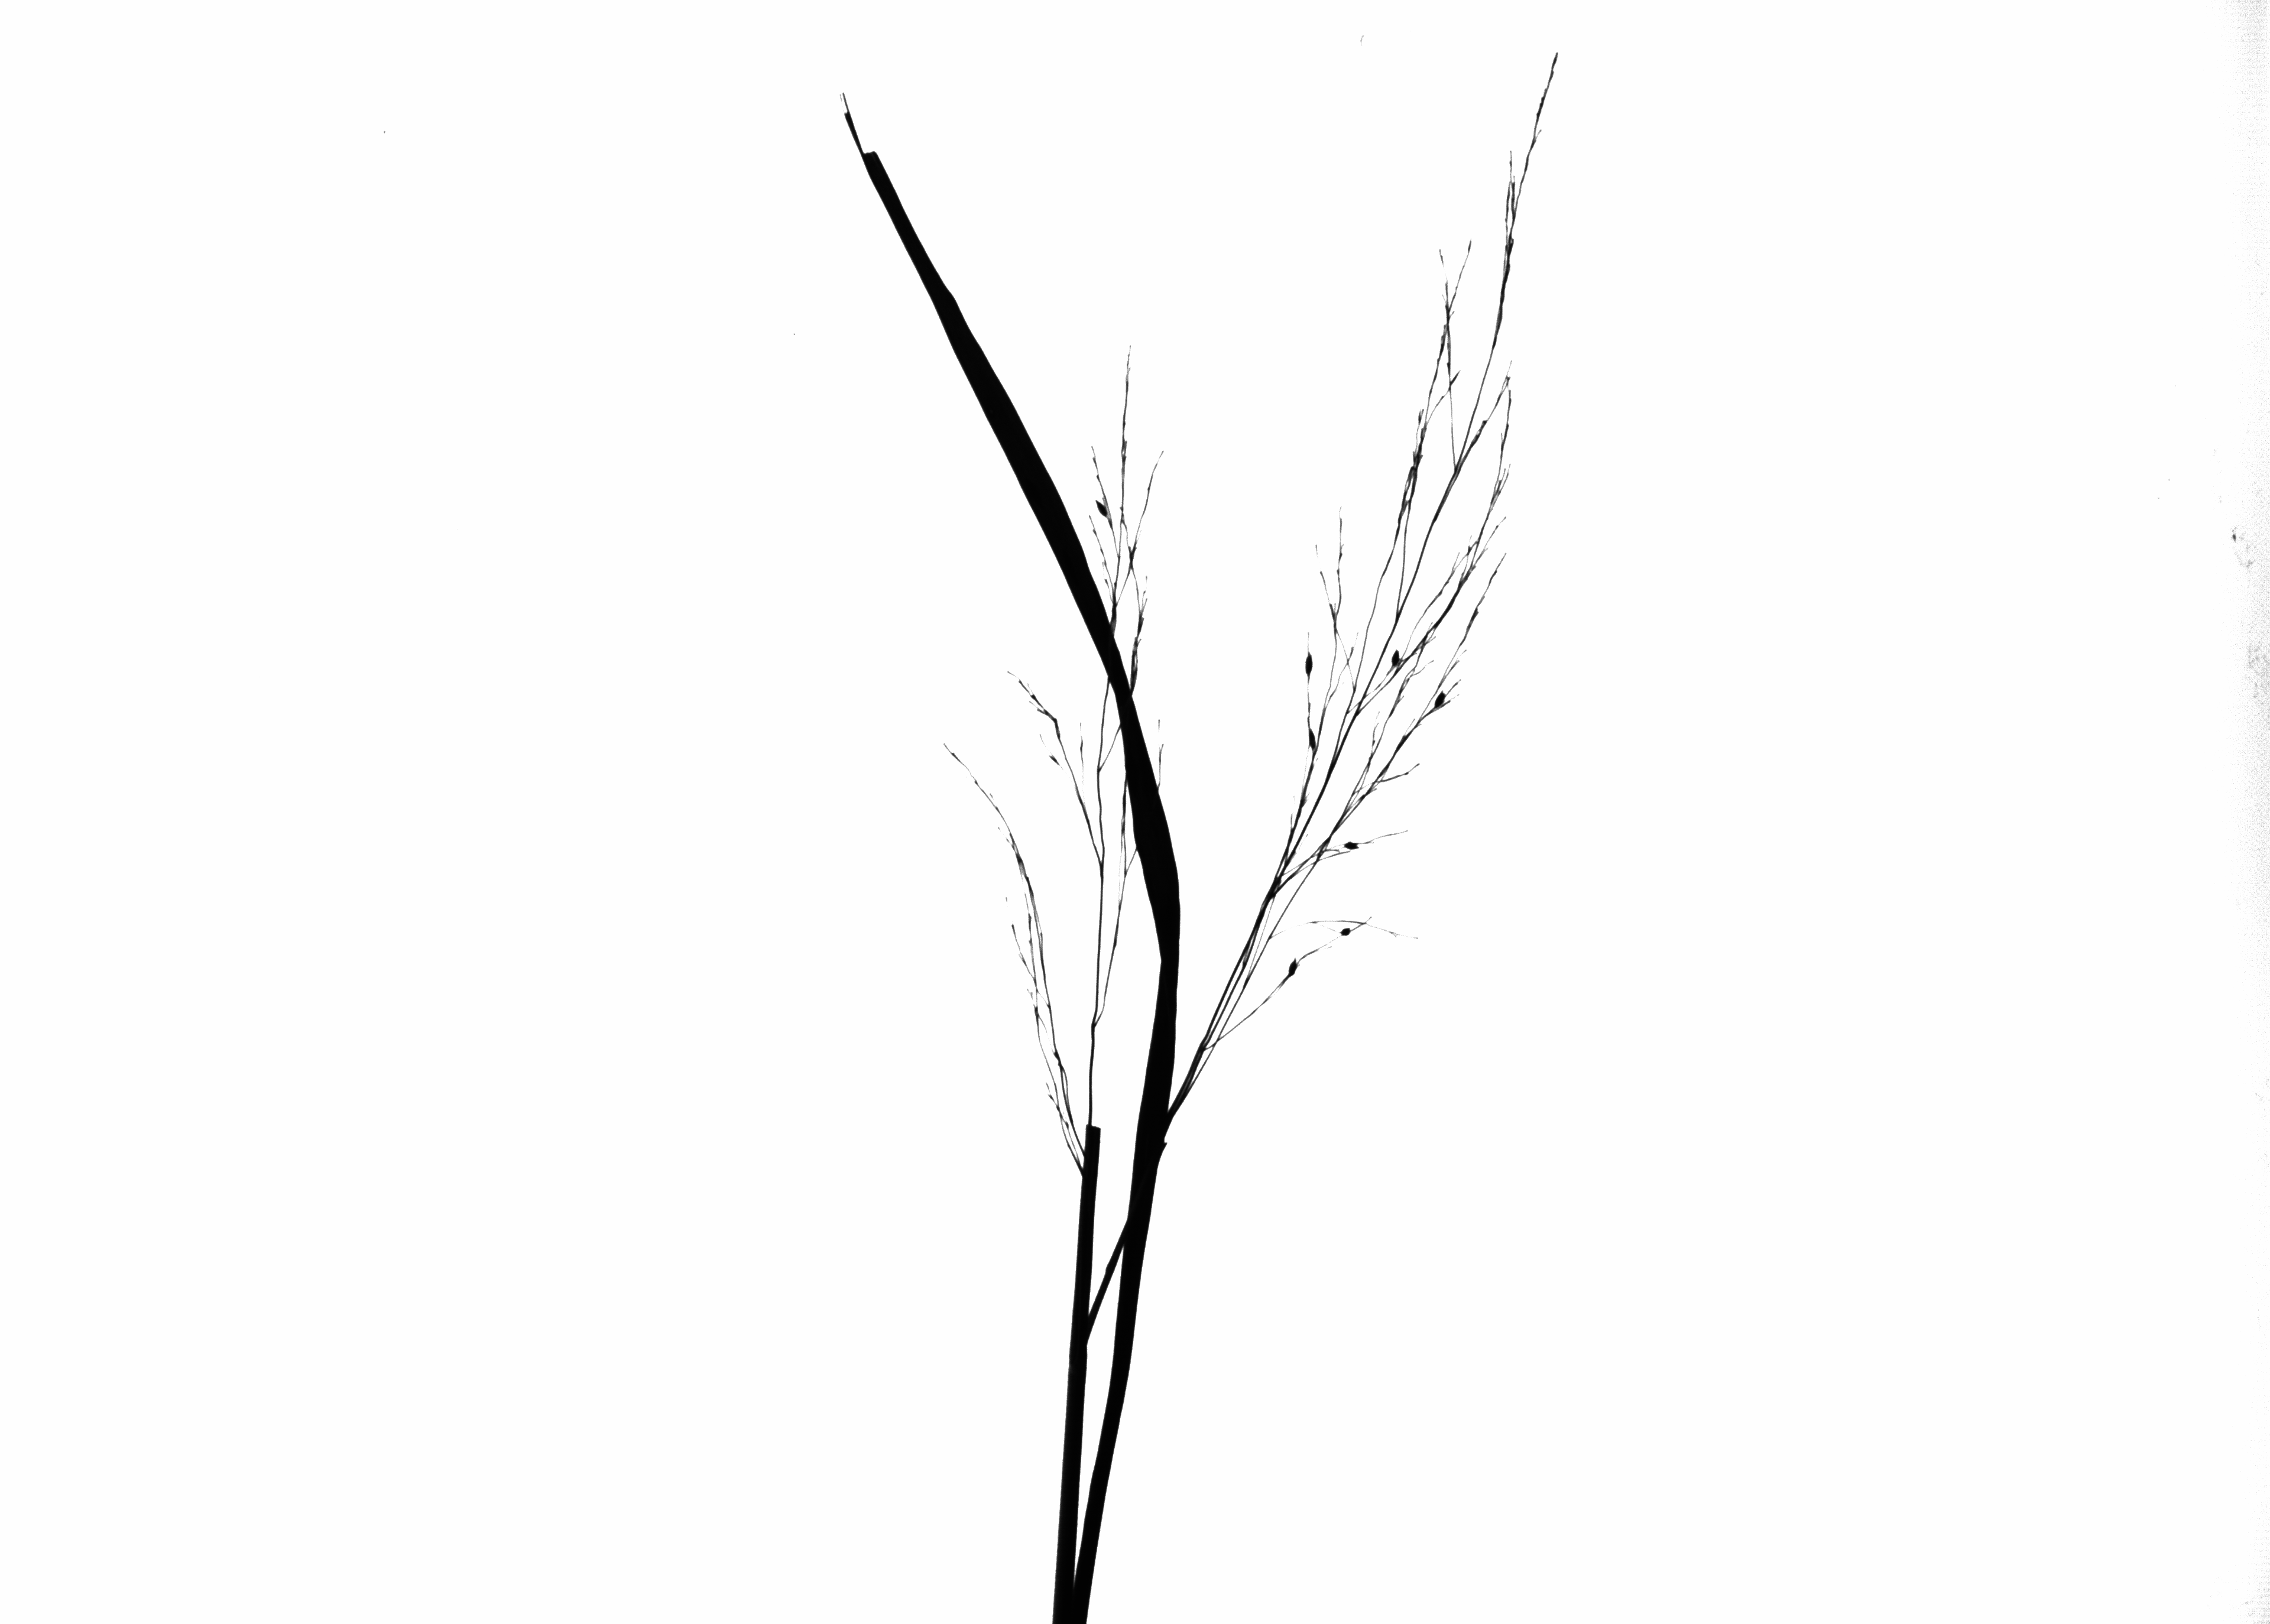seed: (1298, 649, 1317, 678), (1088, 496, 1111, 520), (1431, 684, 1449, 714), (1303, 726, 1321, 752), (1287, 951, 1303, 979), (1387, 649, 1403, 673), (1336, 923, 1356, 942), (1342, 837, 1361, 854)
